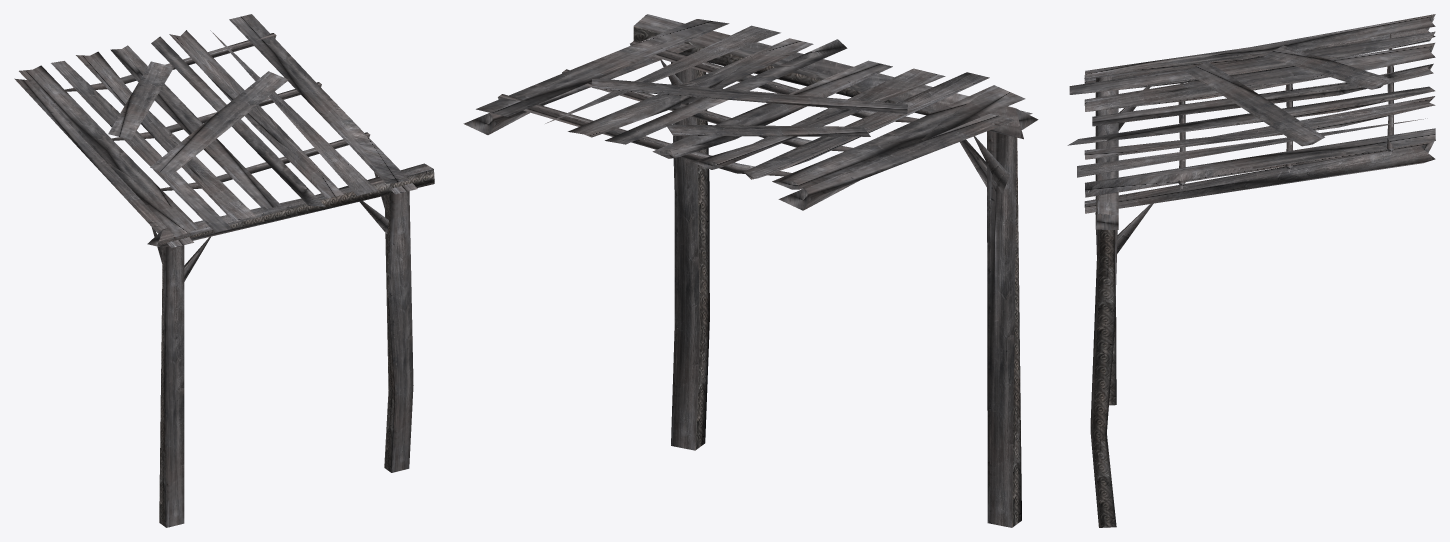
File: tavern_smallRoof_LOD.fbx
3 views of the same model, side by side, from view 1: azimuth 30°, elevation 25°; view 2: azimuth 150°, elevation 25°; view 3: azimuth 270°, elevation 25° (orthographic). The views are drawn at different scales.
Parts seen in each view (by area): view 1: Default_Layer; view 2: Default_Layer; view 3: Default_Layer.
Part boxes in pixels (box(x1,y1,x2,y2)): Default_Layer: box(14, 14, 434, 527); Default_Layer: box(463, 14, 1038, 527); Default_Layer: box(1067, 14, 1435, 527).
Size of the model in its own units: 629 by 753 by 651.
Materials: 1 (1 with a texture image).
